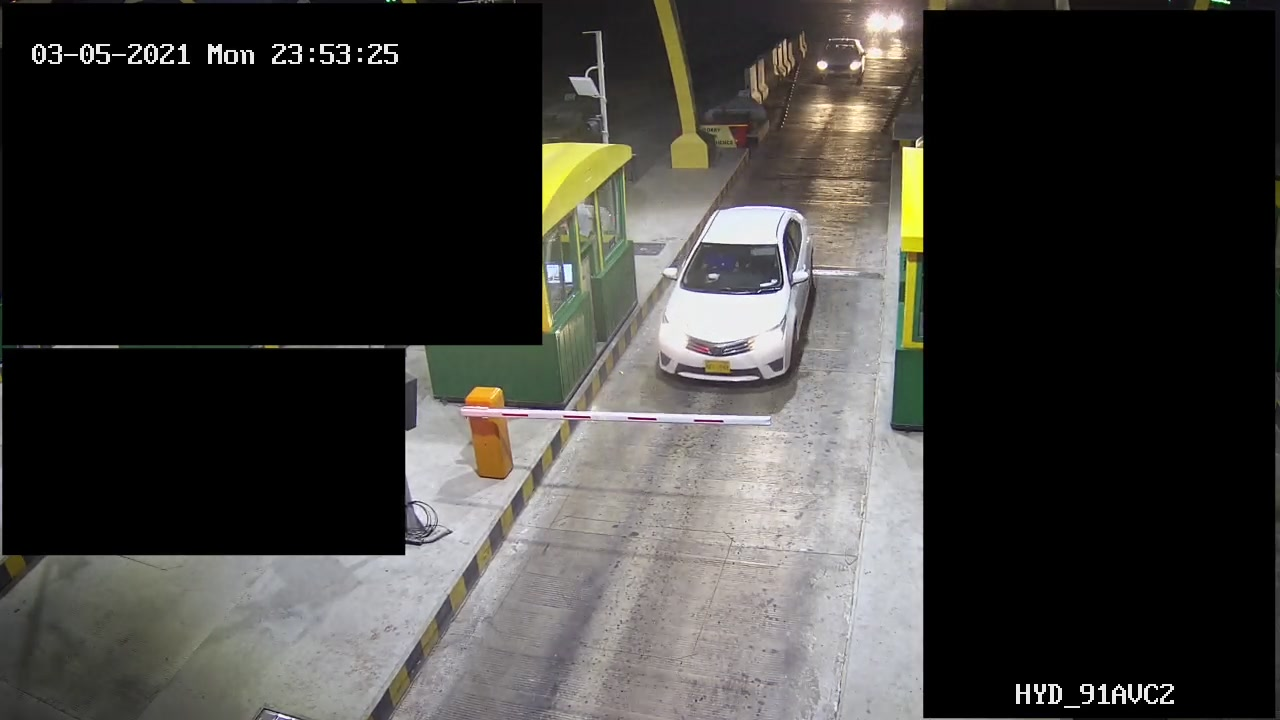F1: (647, 200, 818, 403)
